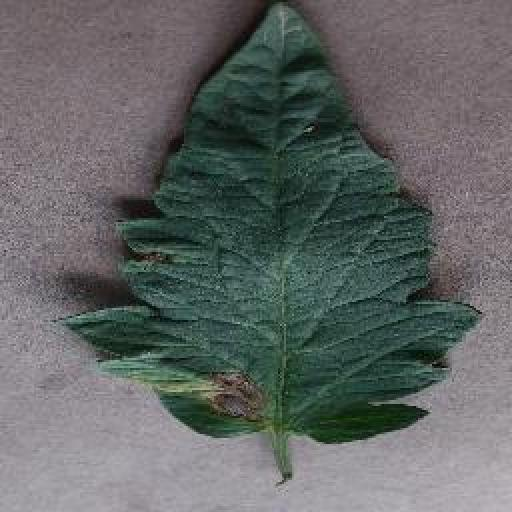Early Blight: (59, 2, 482, 446)
